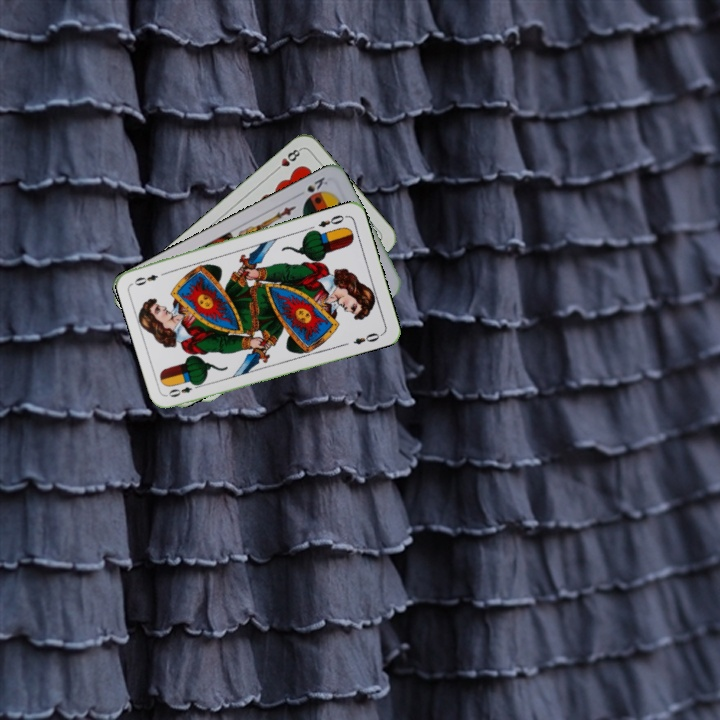EO: (164, 379, 204, 400), (314, 211, 349, 230)
H8: (270, 144, 304, 175)
SK: (302, 173, 330, 201)
